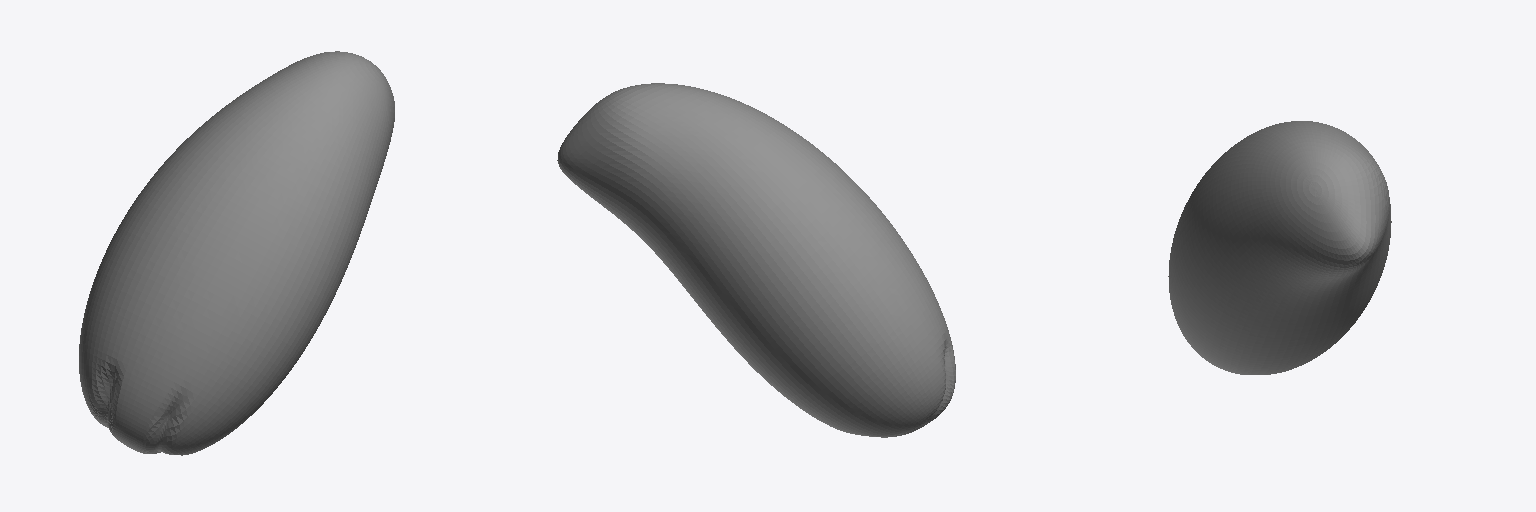
Rendered from DBDe.obj.
The picture shows the model from 3 angles: view 1: azimuth 30°, elevation 25°; view 2: azimuth 150°, elevation 25°; view 3: azimuth 270°, elevation 25°; orthographic projection.
Parts seen in each view (by area): view 1: BDe; view 2: BDe; view 3: BDe.
Part boxes in pixels (left/top/right/bottom): BDe: left=79, top=51, right=394, bottom=455; BDe: left=557, top=83, right=955, bottom=437; BDe: left=1168, top=121, right=1391, bottom=374.
Size of the model in its own units: 1.89 by 1.69 by 1.07.